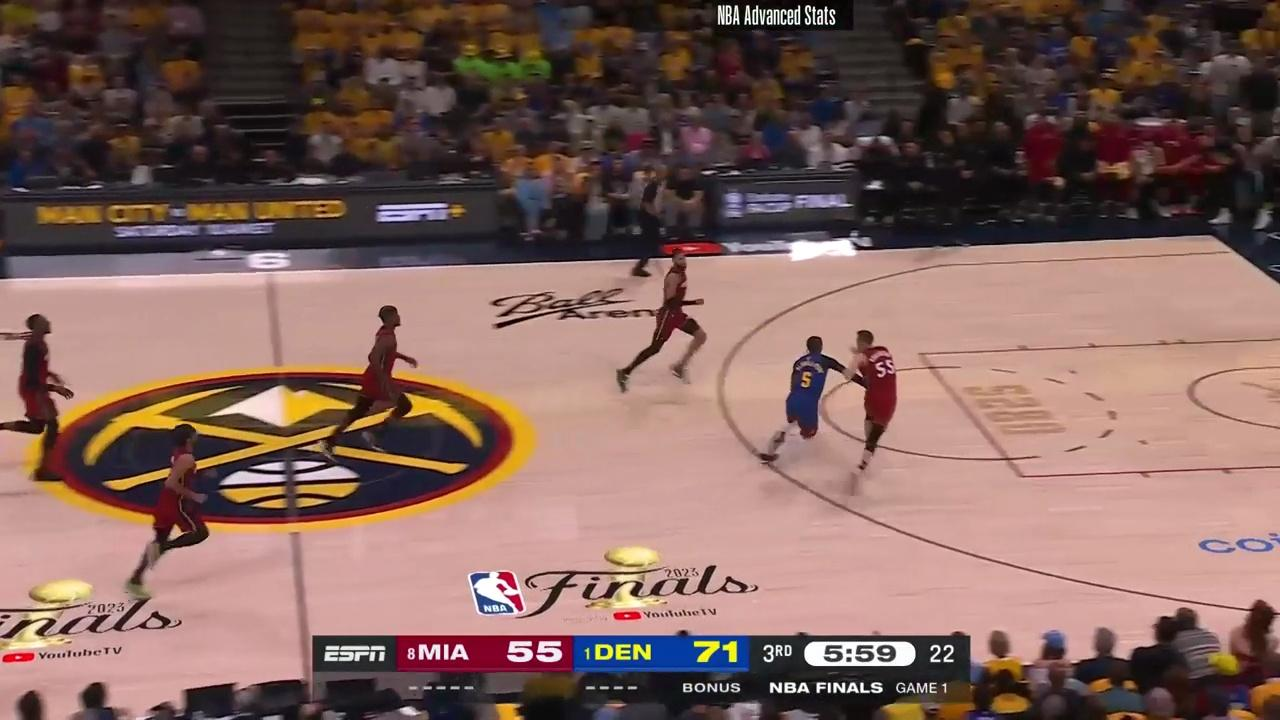Person: (125, 423, 217, 600), (618, 247, 703, 393), (770, 331, 857, 469), (340, 296, 419, 443), (9, 304, 74, 478), (850, 324, 905, 484)
Referee: (621, 165, 680, 278)
